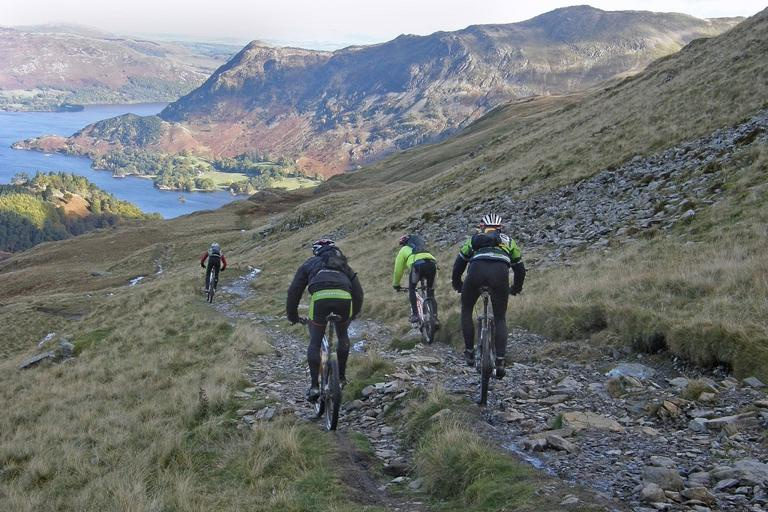non-vehicle: (457, 282, 523, 408), (291, 313, 361, 428), (392, 276, 438, 343), (200, 263, 224, 303)
